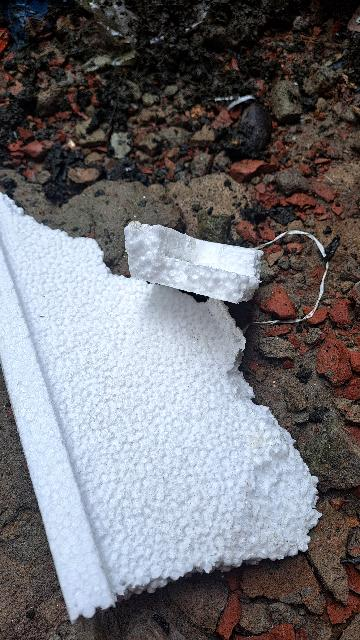cocksheet: (3, 120, 323, 639)
